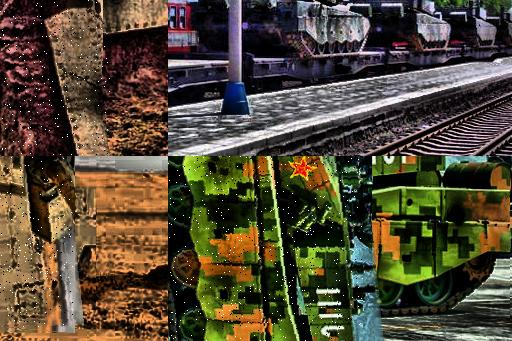tanks: (169, 157, 356, 341), (1, 1, 110, 157), (1, 157, 74, 328), (245, 1, 370, 59), (353, 1, 451, 51), (444, 3, 498, 53), (195, 1, 229, 54), (487, 14, 512, 48)
